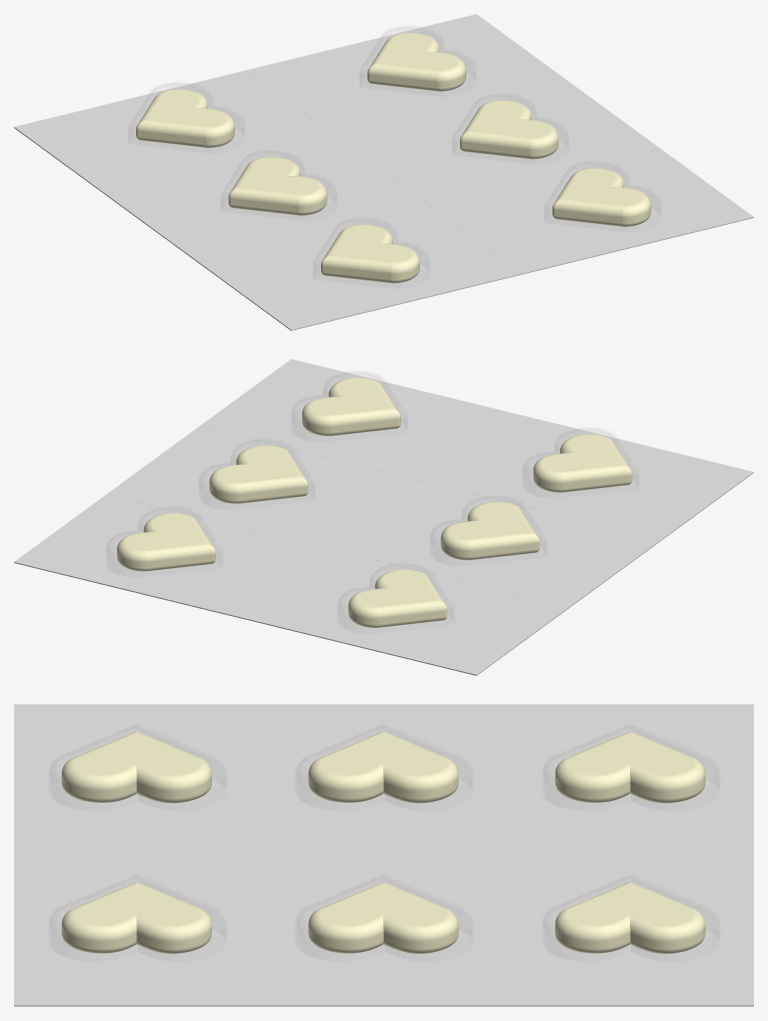
Rendered from Heart_Pill_2x3_Beige.glb.
3 views of the same model, one above another, from view 1: azimuth 30°, elevation 25°; view 2: azimuth 150°, elevation 25°; view 3: azimuth 270°, elevation 25° (orthographic). The views are drawn at different scales.
Parts seen in each view (by area): view 1: Heart_Pill_Base_2x3, Heart_Pill_2x3, Heart_Pill_Shell_2x3, Heart_Pill_Lid_2x3; view 2: Heart_Pill_Base_2x3, Heart_Pill_2x3, Heart_Pill_Shell_2x3, Heart_Pill_Lid_2x3; view 3: Heart_Pill_Base_2x3, Heart_Pill_2x3, Heart_Pill_Lid_2x3, Heart_Pill_Shell_2x3.
Part boxes in pixels (box(x1,y1,x2,y2)): Heart_Pill_Base_2x3: box(14, 14, 753, 330); Heart_Pill_2x3: box(136, 32, 651, 283); Heart_Pill_Shell_2x3: box(129, 26, 660, 277); Heart_Pill_Lid_2x3: box(128, 51, 661, 289); Heart_Pill_Base_2x3: box(14, 359, 753, 675); Heart_Pill_2x3: box(117, 377, 632, 627); Heart_Pill_Shell_2x3: box(107, 372, 638, 621); Heart_Pill_Lid_2x3: box(106, 397, 639, 634); Heart_Pill_Base_2x3: box(14, 704, 753, 1006); Heart_Pill_2x3: box(61, 731, 705, 953); Heart_Pill_Lid_2x3: box(48, 779, 720, 962); Heart_Pill_Shell_2x3: box(50, 725, 718, 939).
Bounding box in the file's own units: 6.8 × 0.336 × 7.06.
